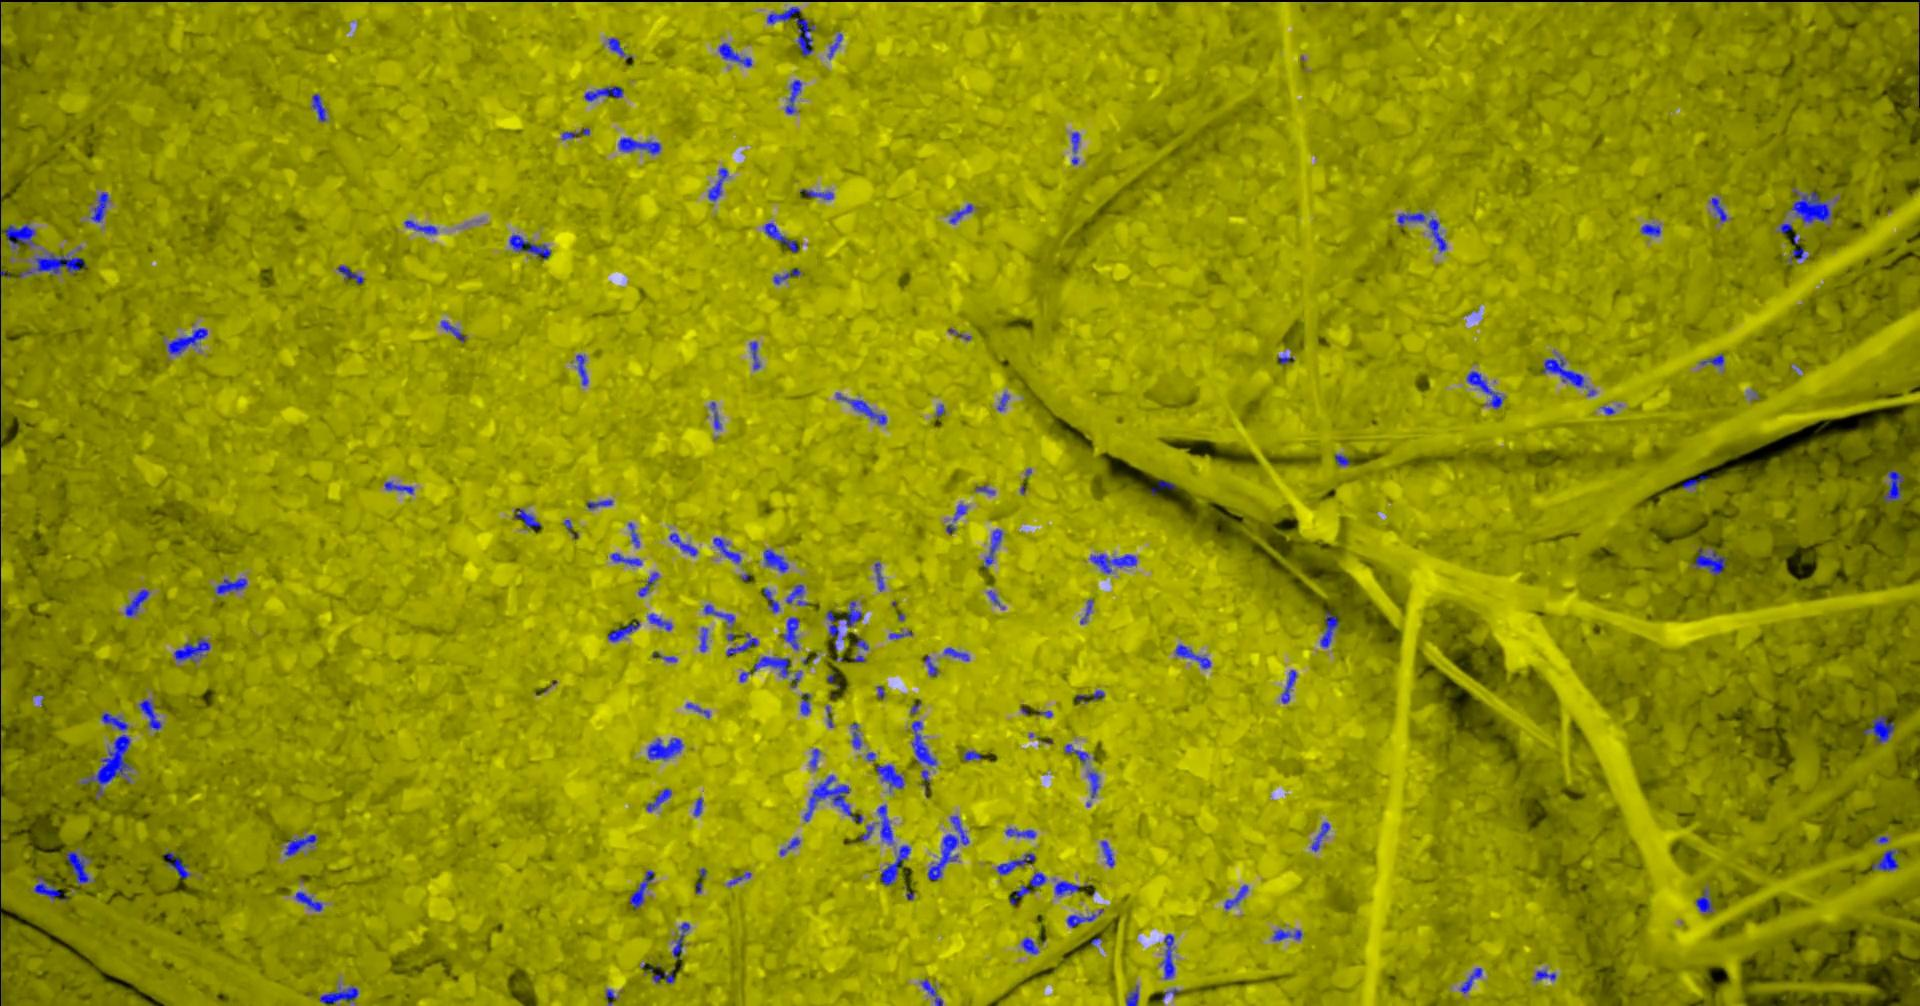ant: (803, 775, 862, 823), (927, 815, 968, 880), (766, 6, 814, 56), (1397, 212, 1446, 251), (825, 600, 861, 650), (836, 392, 886, 424), (18, 254, 86, 277), (1465, 370, 1502, 408), (1542, 357, 1586, 386), (879, 845, 910, 885), (1790, 191, 1830, 222), (1010, 871, 1045, 904), (910, 720, 936, 765), (168, 326, 207, 353), (509, 234, 550, 259), (629, 870, 654, 908), (764, 222, 797, 251), (1691, 547, 1726, 575), (1090, 553, 1137, 573), (173, 636, 210, 661), (0, 224, 36, 248), (1175, 644, 1210, 668), (996, 852, 1035, 874), (1863, 715, 1895, 742), (319, 984, 358, 1005), (717, 42, 750, 66), (648, 737, 682, 760), (875, 763, 904, 790), (753, 655, 789, 677), (65, 850, 89, 882), (163, 851, 190, 878), (983, 528, 1002, 567), (607, 619, 639, 641), (726, 633, 757, 655), (138, 699, 161, 729), (618, 137, 660, 154), (1882, 469, 1903, 500), (1319, 611, 1338, 647), (712, 537, 740, 561), (707, 166, 728, 199), (284, 835, 317, 855), (1065, 909, 1102, 927), (672, 922, 690, 959), (124, 589, 149, 616), (669, 532, 697, 555), (1161, 934, 1175, 979), (783, 79, 801, 113), (919, 978, 942, 1005), (876, 804, 891, 843), (90, 191, 109, 221), (763, 549, 789, 572), (1224, 884, 1247, 909), (1870, 848, 1897, 870), (33, 876, 60, 898), (1459, 967, 1481, 993), (295, 890, 323, 911), (781, 617, 799, 649), (1310, 822, 1330, 851), (646, 788, 670, 810), (583, 86, 622, 100), (607, 37, 632, 58), (1280, 669, 1297, 702), (703, 605, 734, 622), (439, 320, 465, 340), (337, 265, 364, 283), (637, 572, 658, 596), (1064, 743, 1088, 763), (215, 578, 246, 593), (949, 203, 971, 224), (786, 584, 809, 605), (773, 268, 800, 285), (513, 509, 540, 526), (648, 967, 674, 983), (762, 587, 778, 612), (404, 220, 436, 232), (610, 553, 641, 565), (1150, 479, 1175, 495), (648, 614, 672, 630), (1100, 840, 1114, 868), (827, 33, 842, 58), (311, 94, 325, 121), (1710, 197, 1726, 221), (778, 837, 799, 855), (1695, 889, 1712, 911), (943, 647, 969, 661), (1076, 690, 1103, 702), (1054, 880, 1079, 894), (799, 189, 833, 199), (575, 354, 587, 385), (1681, 474, 1708, 486), (684, 702, 709, 716), (383, 481, 413, 493), (1272, 929, 1302, 940), (561, 127, 589, 138), (1004, 828, 1035, 838), (923, 654, 937, 676), (749, 340, 759, 370), (874, 561, 884, 591), (1070, 131, 1079, 164), (1700, 353, 1723, 366), (627, 522, 639, 547), (1079, 600, 1092, 622), (728, 873, 750, 885), (710, 401, 720, 429), (850, 721, 860, 748), (1088, 771, 1098, 796), (1125, 984, 1138, 1005), (1021, 937, 1037, 953), (1785, 246, 1803, 260), (1534, 969, 1556, 981), (1641, 224, 1660, 236), (585, 499, 612, 508), (952, 503, 966, 520), (996, 392, 1008, 410), (698, 627, 707, 652), (800, 694, 810, 714), (809, 748, 819, 768), (858, 826, 872, 840), (963, 751, 982, 760), (693, 796, 702, 815), (604, 988, 615, 1005), (1335, 453, 1349, 465)
